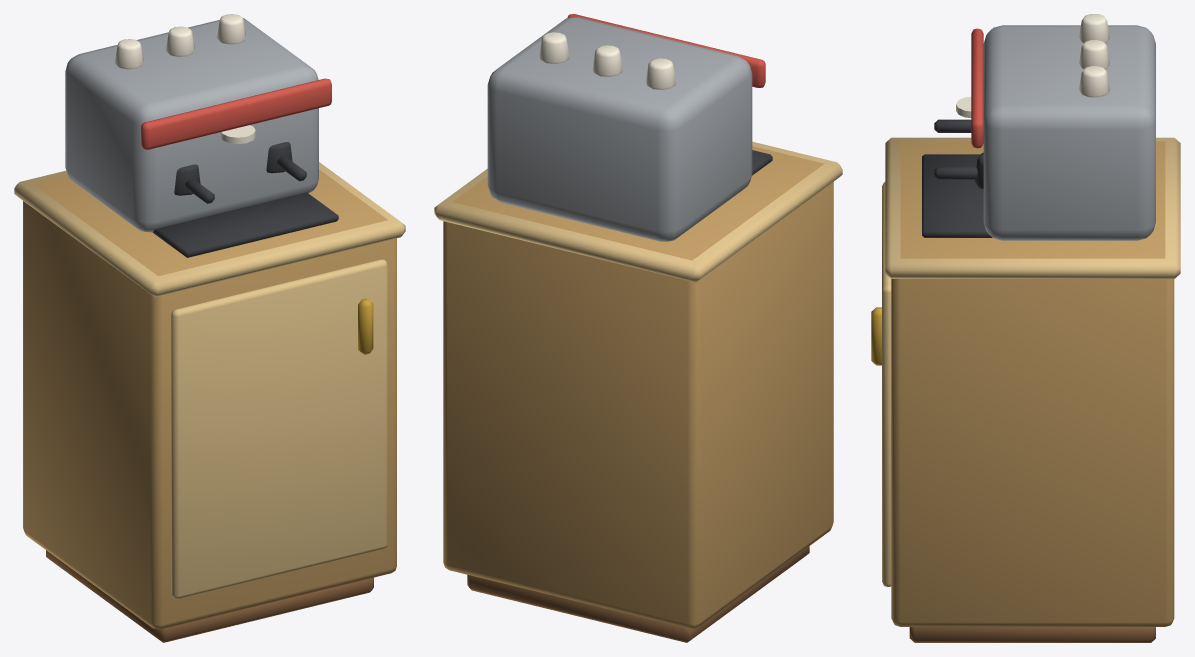
The model's file is espresso.glb.
The picture shows the model from 3 angles, left to right: view 1: azimuth 30°, elevation 25°; view 2: azimuth 150°, elevation 25°; view 3: azimuth 270°, elevation 25°; orthographic projection. The views are drawn at different scales.
Parts seen in each view (by area): view 1: espresso; view 2: espresso; view 3: espresso.
Part boxes in pixels (x1,y1,x2,y2): espresso: (14, 14, 405, 642); espresso: (434, 14, 842, 642); espresso: (871, 14, 1180, 642).
Size of the model in its own units: 0.5 by 0.98 by 0.5025.
1 material, 1 textured.
